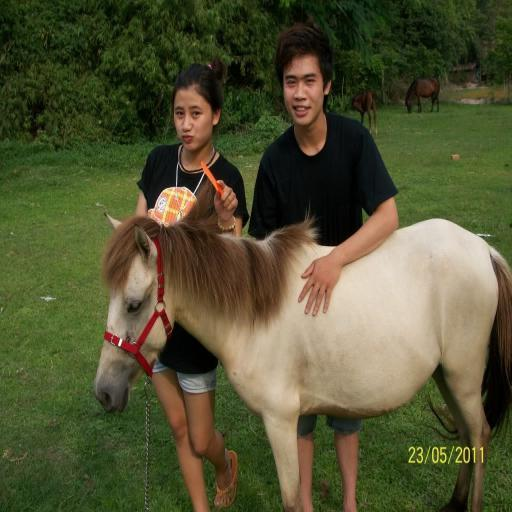horse: (92, 212, 512, 512), (350, 89, 379, 136), (404, 79, 442, 114)
